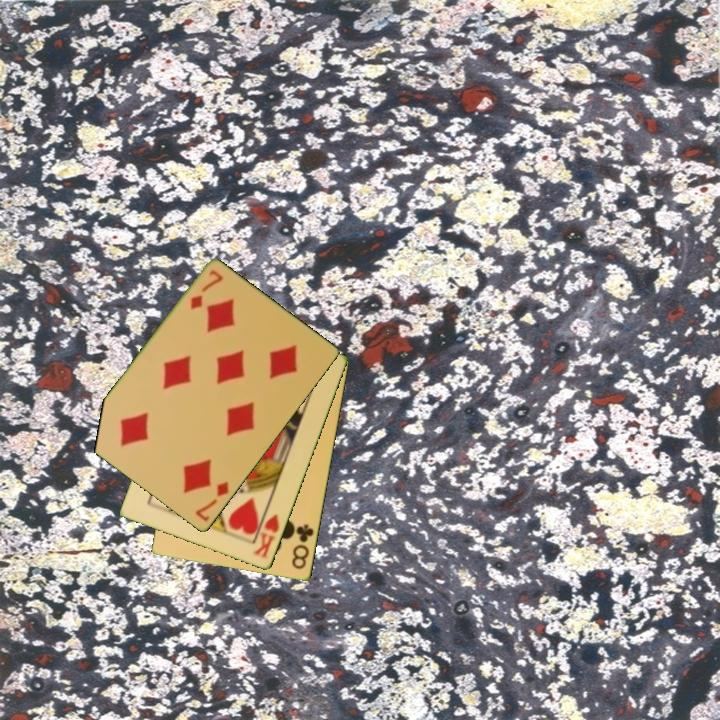7d: (192, 478, 232, 525), (187, 266, 226, 313)
8c: (289, 521, 317, 572)
Kh: (249, 505, 282, 562)
